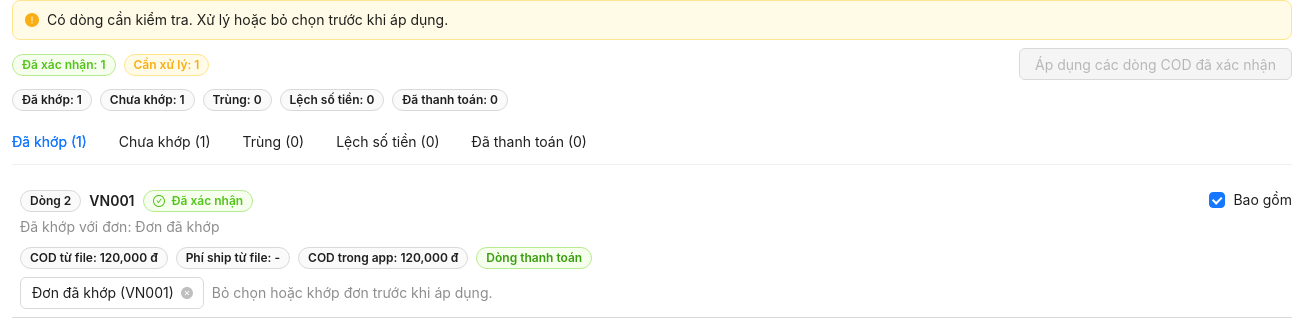
renders Vietnamese COD review labels and guarded apply state
This screenshot has width=1304, height=335.
Expected: the text "Đã khớp: 1" is shown, 12,89 -> 92,111
Expected: the text "Chưa khớp: 1" is shown, 100,89 -> 195,111
Step 1. Click the tab "Trùng (0)" → [273, 142], box 242,131 -> 304,153
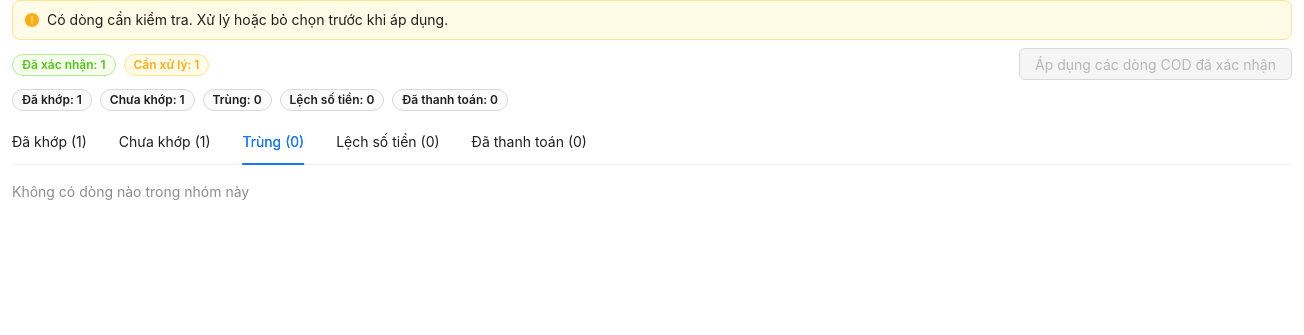
Result: the text "Không có dòng nào trong nhóm này" is shown at 12,183 -> 249,200
